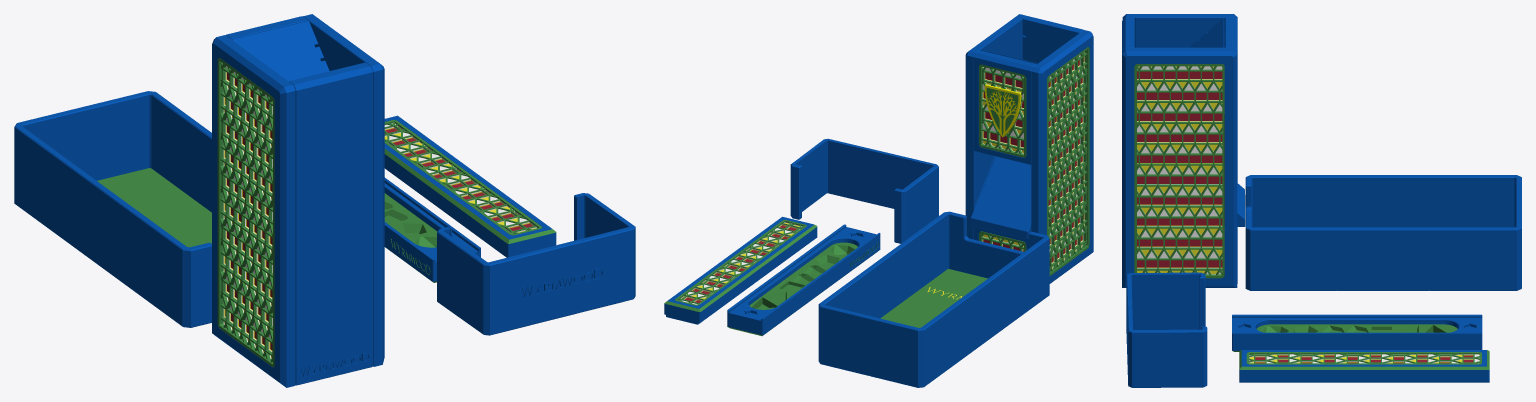
File: Regal.glb
3 views of the same model, side by side, from view 1: azimuth 30°, elevation 25°; view 2: azimuth 150°, elevation 25°; view 3: azimuth 270°, elevation 25° (orthographic). The views are drawn at different scales.
Parts seen in each view (by area): view 1: Assembly_fil5, Assembly_fil5.011, P Tray Clamp_fil5, Assembly_fil1.012, Assembly_fil5.008, Assembly_fil5.007, Assembly_fil1.004, Assembly_fil5.006, Assembly_fil5.013, Assembly_fil1.008, Assembly_fil5.005, Assembly_fil2.003 (+8 smaller); view 2: Assembly_fil5, P Tray Clamp_fil5, Assembly_fil1.012, Assembly_fil5.008, Assembly_fil5.005, Assembly_fil5.012, Assembly_fil5.007, Assembly_fil5.006, Assembly_fil1.004, Assembly_fil5.010, Assembly_fil1.013, Assembly_fil1.008 (+14 smaller); view 3: Assembly_fil5, Assembly_fil1.011, P Tray Clamp_fil5, Assembly_fil5.007, Assembly_fil5.005, Assembly_fil4.002, Assembly_fil5.006, Assembly_fil2.002, Assembly_fil3.009, Assembly_fil5.008, Assembly_fil1.008, Assembly_fil1.006 (+8 smaller).
Part boxes in pixels (x1=…): Assembly_fil5: x1=14, y1=91, x2=211, y2=327; Assembly_fil5.011: x1=289, y1=62, x2=372, y2=385; P Tray Clamp_fil5: x1=437, y1=193, x2=635, y2=335; Assembly_fil1.012: x1=217, y1=58, x2=274, y2=367; Assembly_fil5.008: x1=212, y1=35, x2=295, y2=387; Assembly_fil5.007: x1=303, y1=14, x2=384, y2=366; Assembly_fil1.004: x1=97, y1=168, x2=211, y2=247; Assembly_fil5.006: x1=384, y1=115, x2=556, y2=257; Assembly_fil5.013: x1=232, y1=21, x2=329, y2=81; Assembly_fil1.008: x1=384, y1=120, x2=542, y2=235; Assembly_fil5.005: x1=384, y1=177, x2=480, y2=281; Assembly_fil2.003: x1=223, y1=66, x2=272, y2=358; Assembly_fil5: x1=818, y1=211, x2=1049, y2=387; P Tray Clamp_fil5: x1=790, y1=138, x2=938, y2=243; Assembly_fil1.012: x1=1047, y1=47, x2=1089, y2=275; Assembly_fil5.008: x1=1031, y1=30, x2=1093, y2=283; Assembly_fil5.005: x1=727, y1=224, x2=880, y2=335; Assembly_fil5.012: x1=970, y1=156, x2=1031, y2=239; Assembly_fil5.007: x1=965, y1=14, x2=1025, y2=239; Assembly_fil5.006: x1=664, y1=216, x2=817, y2=324; Assembly_fil1.004: x1=880, y1=269, x2=987, y2=327; Assembly_fil5.010: x1=974, y1=50, x2=1036, y2=164; Assembly_fil1.013: x1=979, y1=64, x2=1026, y2=157; Assembly_fil1.008: x1=675, y1=220, x2=806, y2=305; Assembly_fil5: x1=1245, y1=175, x2=1521, y2=290; Assembly_fil1.011: x1=1134, y1=64, x2=1224, y2=278; P Tray Clamp_fil5: x1=1126, y1=272, x2=1207, y2=387; Assembly_fil5.007: x1=1122, y1=47, x2=1237, y2=287; Assembly_fil5.005: x1=1232, y1=314, x2=1482, y2=350; Assembly_fil4.002: x1=1137, y1=71, x2=1222, y2=267; Assembly_fil5.006: x1=1239, y1=350, x2=1489, y2=382; Assembly_fil2.002: x1=1137, y1=66, x2=1222, y2=274; Assembly_fil3.009: x1=1137, y1=66, x2=1222, y2=273; Assembly_fil5.008: x1=1122, y1=14, x2=1237, y2=182; Assembly_fil1.008: x1=1246, y1=352, x2=1481, y2=364; Assembly_fil1.006: x1=1256, y1=324, x2=1457, y2=332.
Size of the model in its own units: 0.2792 by 0.2111 by 0.3226.
